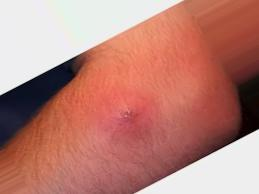Spider: (100, 90, 154, 143)
